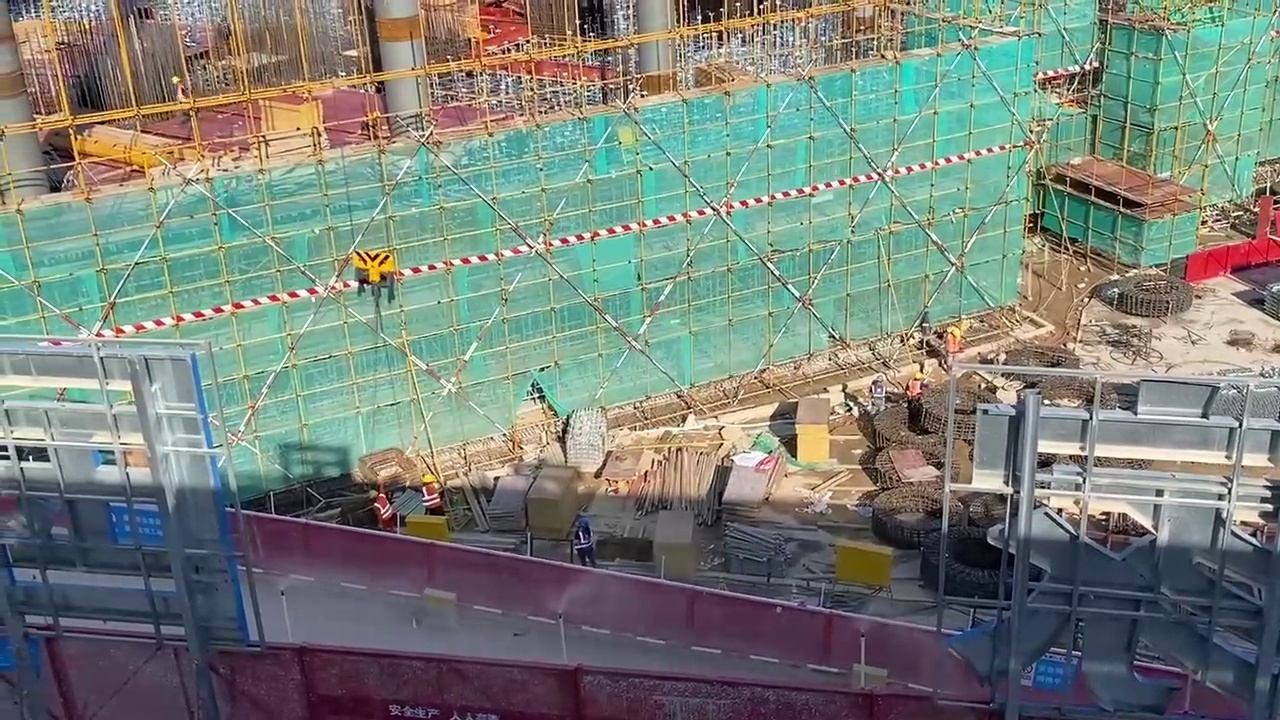board: (529, 465, 573, 540), (795, 398, 834, 461)
fence: (1, 626, 939, 720)
hook: (353, 245, 396, 284)
person: (574, 518, 598, 565), (369, 491, 395, 534), (418, 475, 441, 520), (944, 327, 962, 372), (908, 368, 928, 398), (868, 371, 884, 404)
scaffold: (1265, 280, 1280, 316)
vest: (374, 493, 392, 520), (421, 484, 442, 507), (575, 529, 593, 548)
wood: (642, 447, 717, 522)
